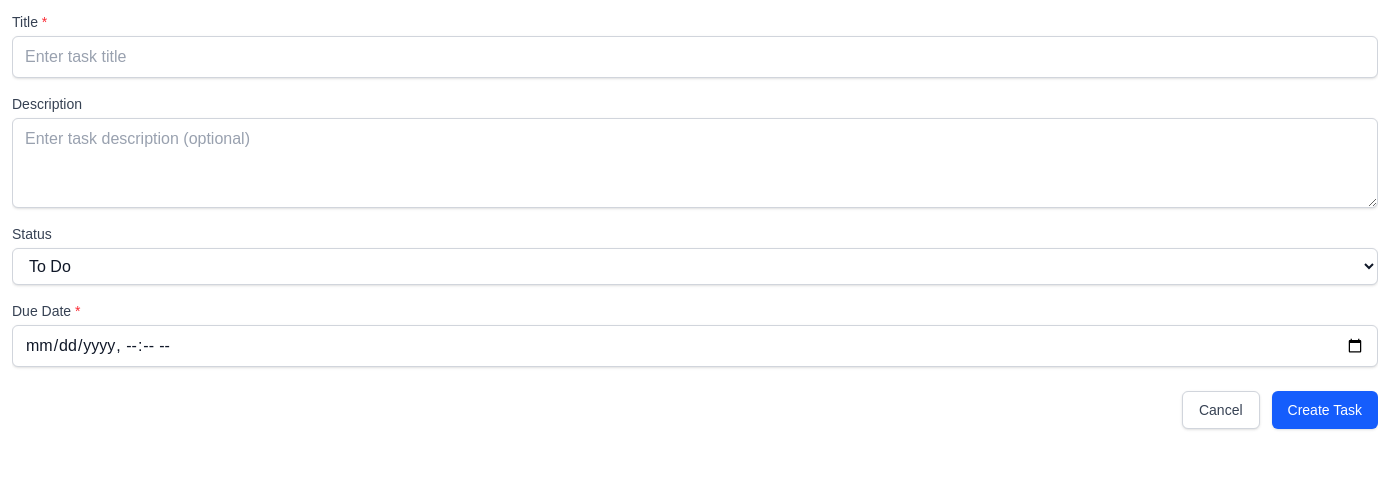
TaskForm › validates required fields
This screenshot has width=1390, height=495.
Click the button "Create Task".
click(1325, 410)  # box top-left (1272, 391), bottom-right (1378, 429)
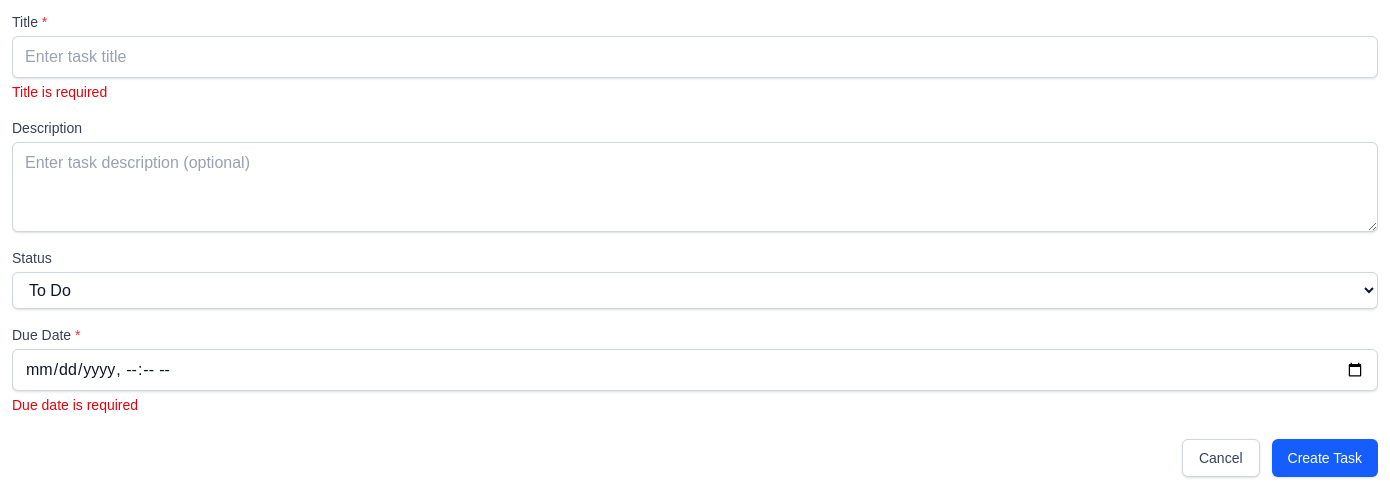
Result: the text "Title is required" is shown at top-left (12, 84), bottom-right (107, 100)
Result: the text "Due date is required" is shown at top-left (12, 397), bottom-right (138, 413)
